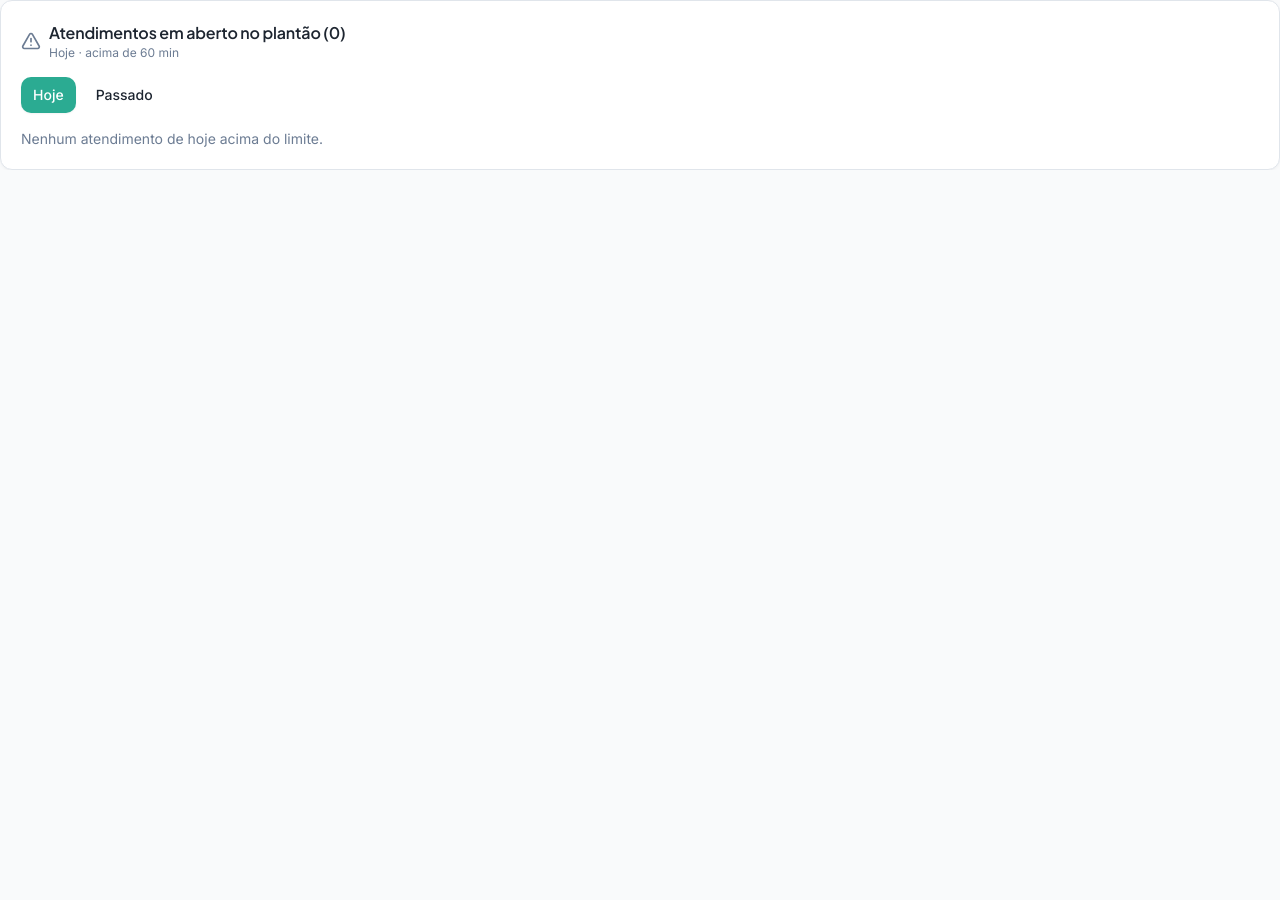
Test: carrega o plantão primeiro e consulta o histórico em páginas quando expandido
Later steps or results of the test are not shown.
Check: the heading "Atendimentos em aberto no plantão (0)" is shown, box [49,21,346,45]
Click the button "Passado": (124, 95) [84,77,165,113]
(page scrolled)
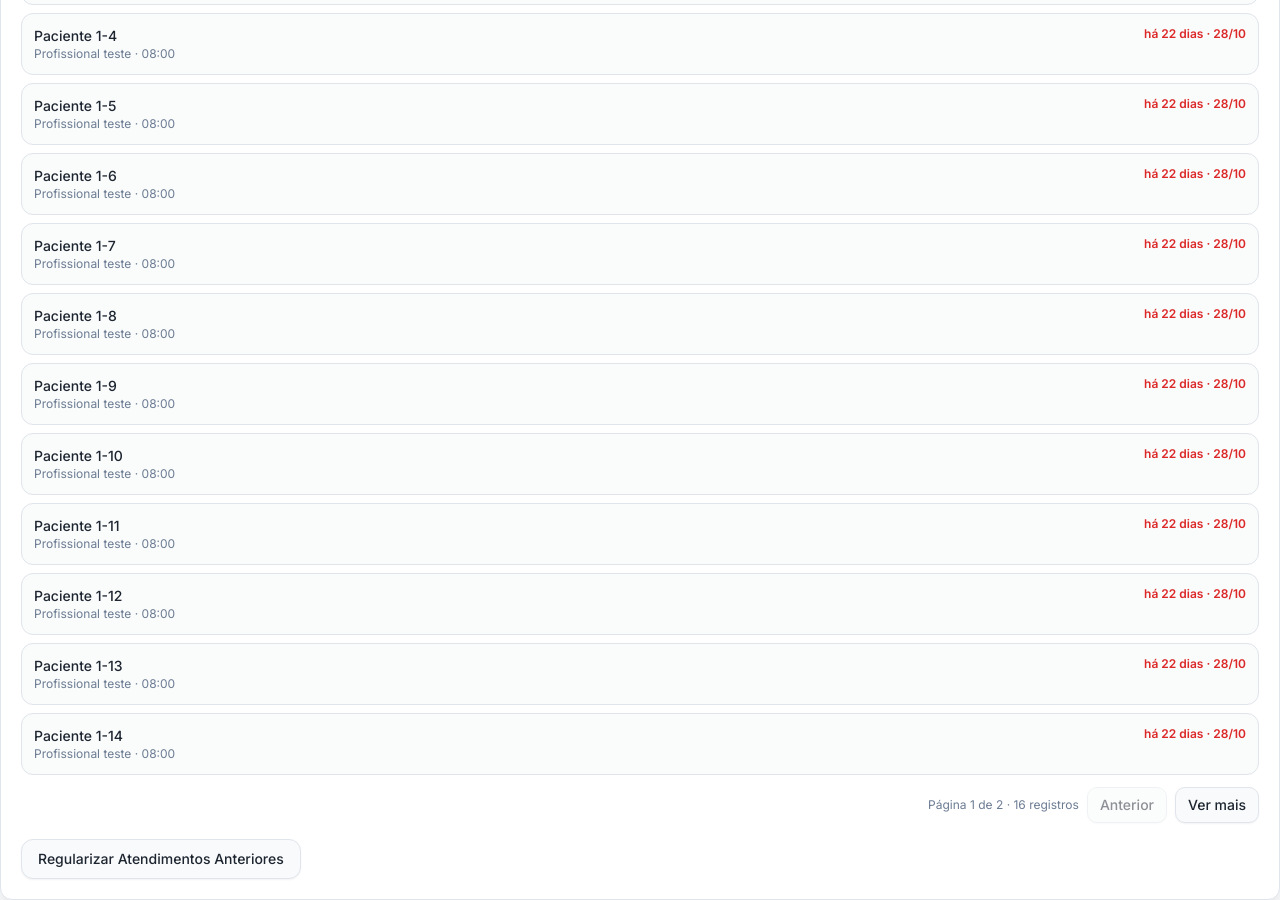
Check: the text "há 22 dias · 28/10" is shown 15 times
Click the button "Ver mais": (1217, 805) [1175,787,1259,823]
(page scrolled)
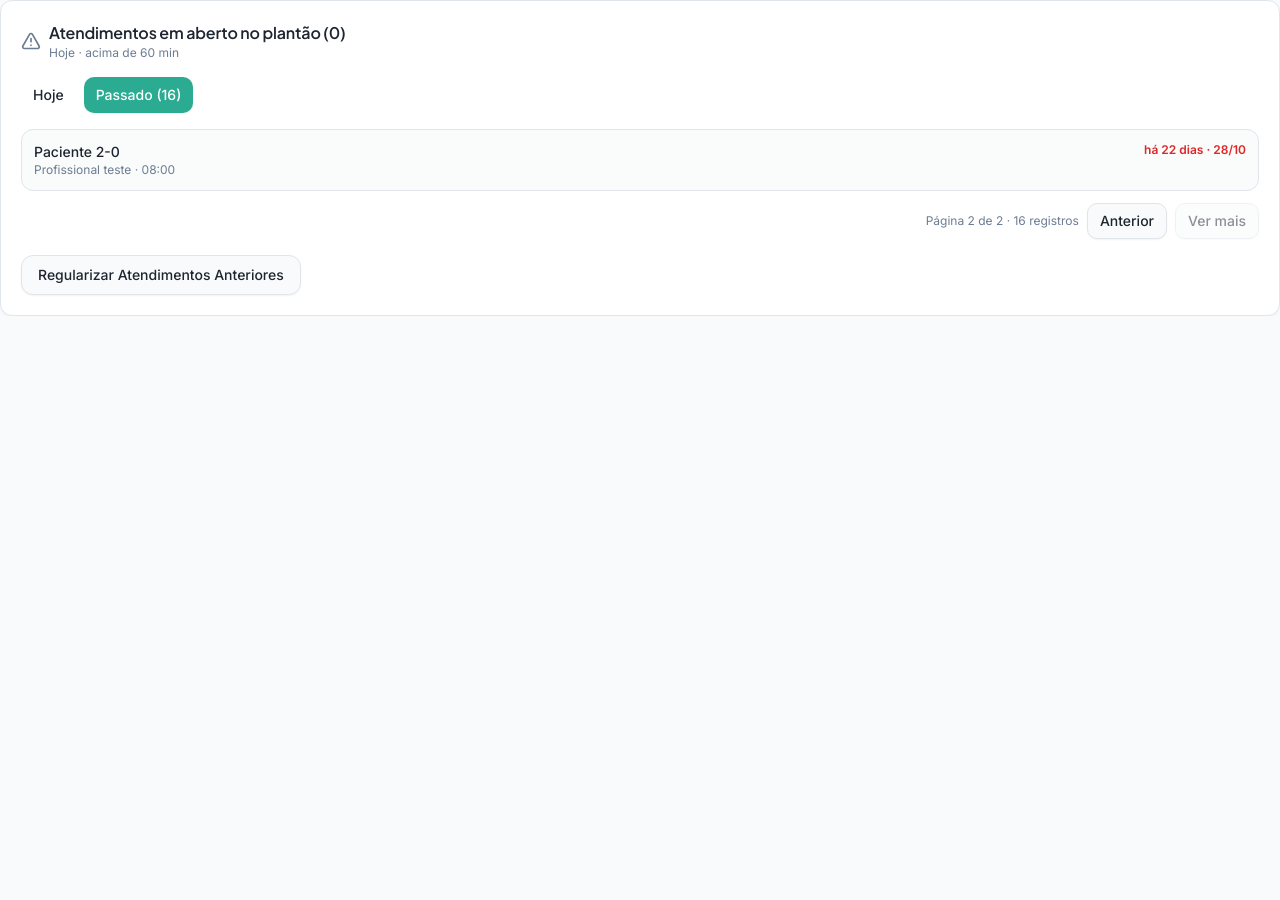
Check: the text "Paciente 2-0" is shown, box [34,143,120,160]
Check: the number of list items is 1, box [21,129,1259,191]
Click the button "Regularizar Atendimentos Anteriores": (161, 275) [21,255,301,295]
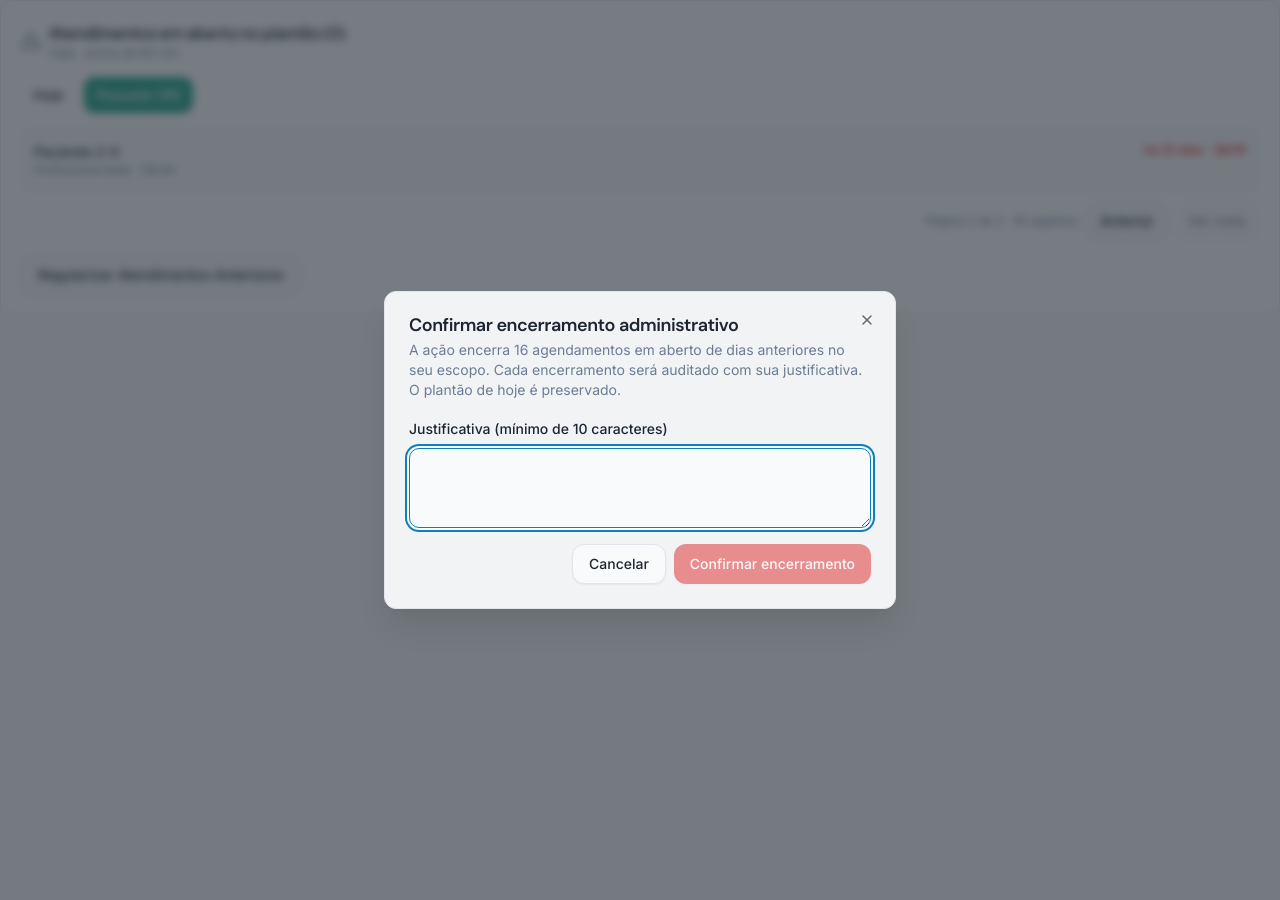
Check: the button "Confirmar encerramento" is disabled, box [674,544,871,584]
